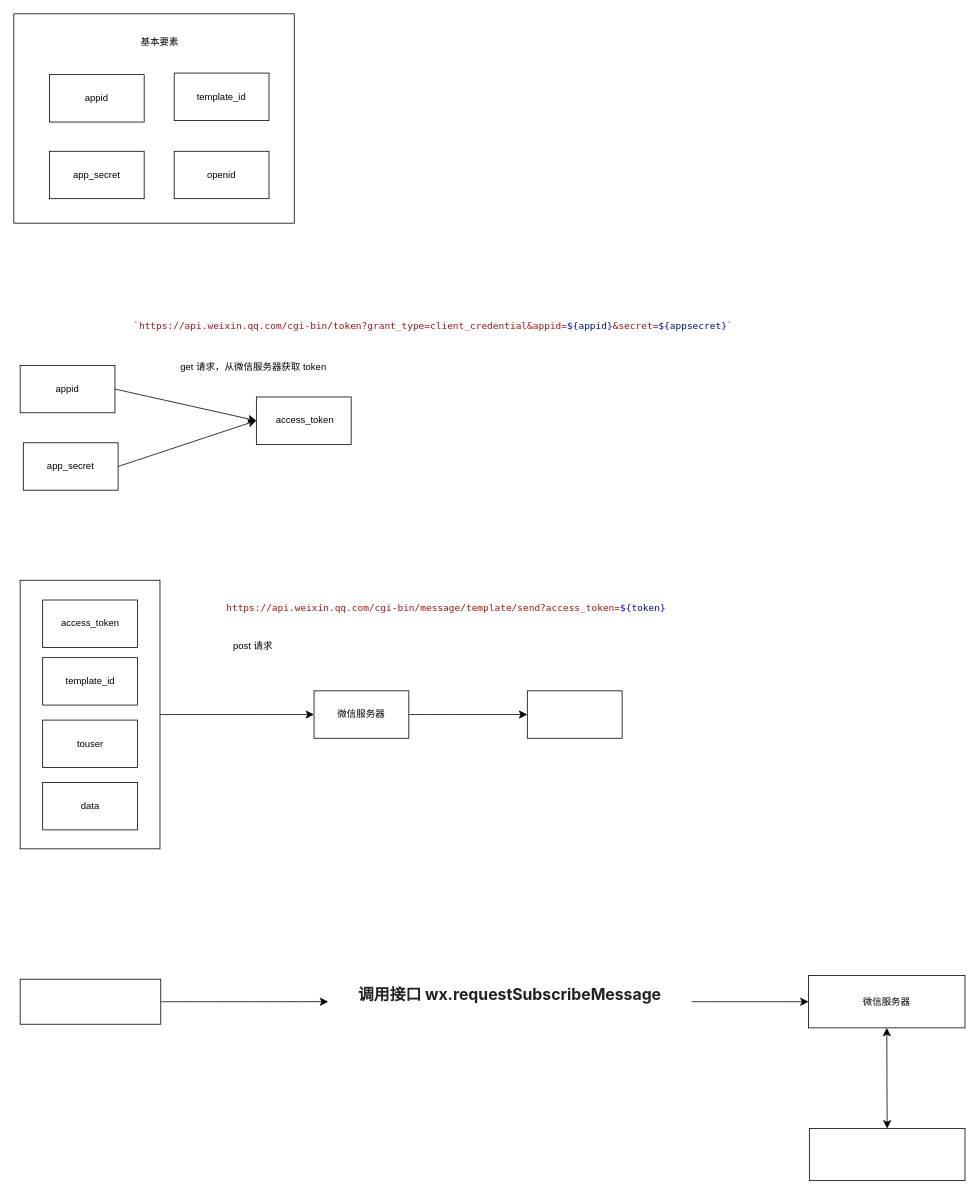
The diagram is 979 pixels wide and 1194 high, and some of its shapes have lost their labels. Each missing label, with the centre of its shape:
对应的微信用户: the point at 574,714
开发者服务器: the point at 887,1154
微信小程序: the point at 90,1001
